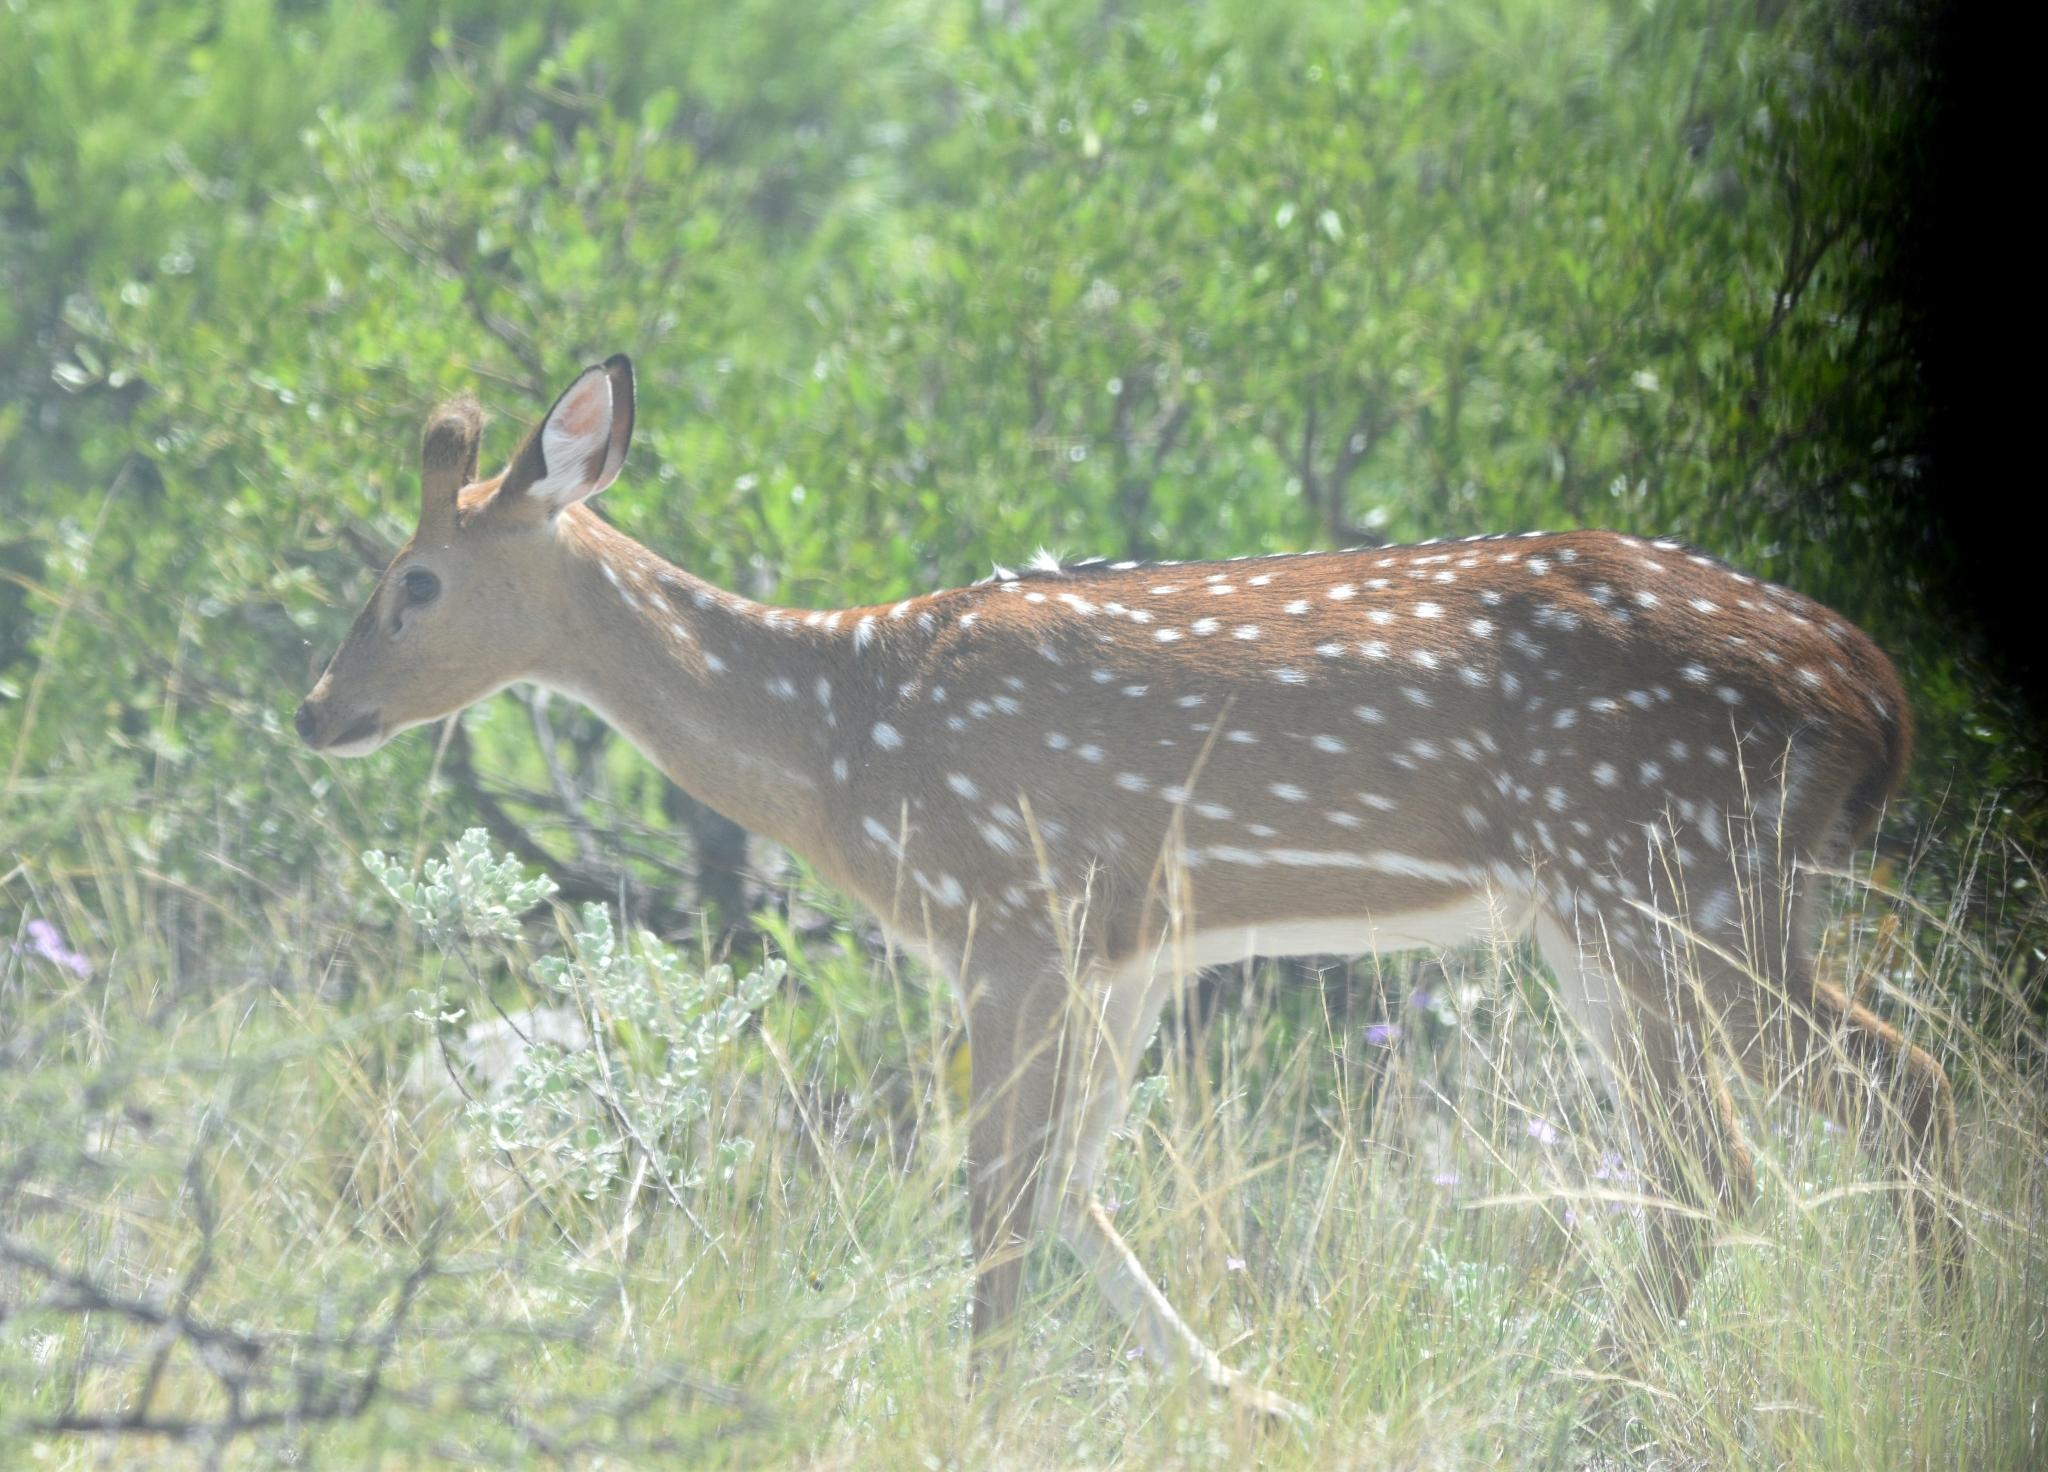Deer: (296, 354, 1910, 1378)
